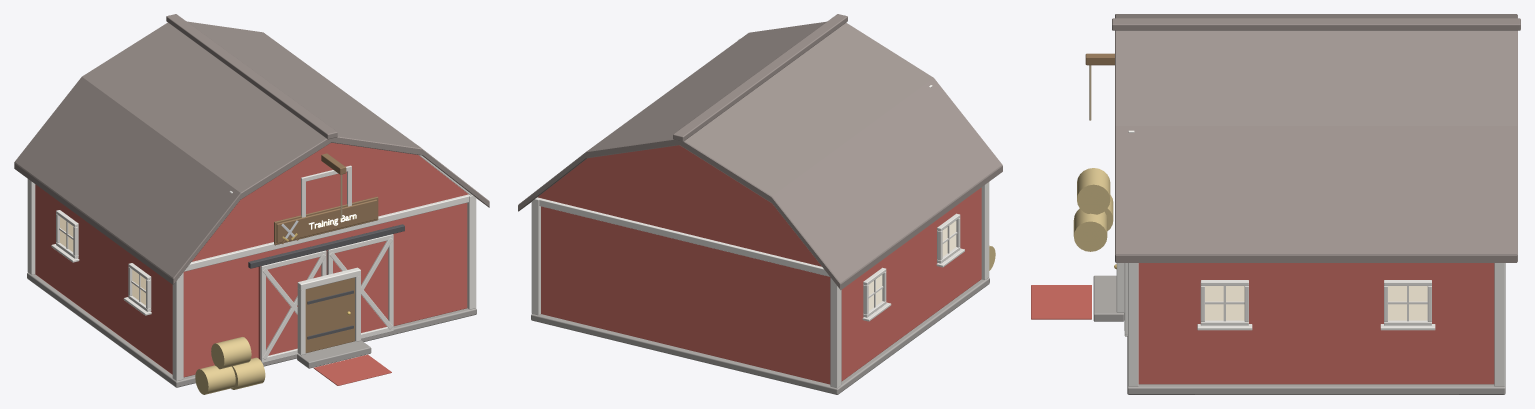
Rendered from training_barn.fbx.
The picture shows the model from 3 angles, left to right: view 1: azimuth 30°, elevation 25°; view 2: azimuth 150°, elevation 25°; view 3: azimuth 270°, elevation 25°; orthographic projection. The views are drawn at different scales.
Visible parts, largest first — view 1: training_barn; view 2: training_barn; view 3: training_barn.
Part boxes in pixels (x1,y1,x2,y2): training_barn: (14,14,489,394); training_barn: (518,14,1002,394); training_barn: (1031,14,1520,394).
Bounding box in the file's own units: 15.14 × 10.19 × 16.05.
